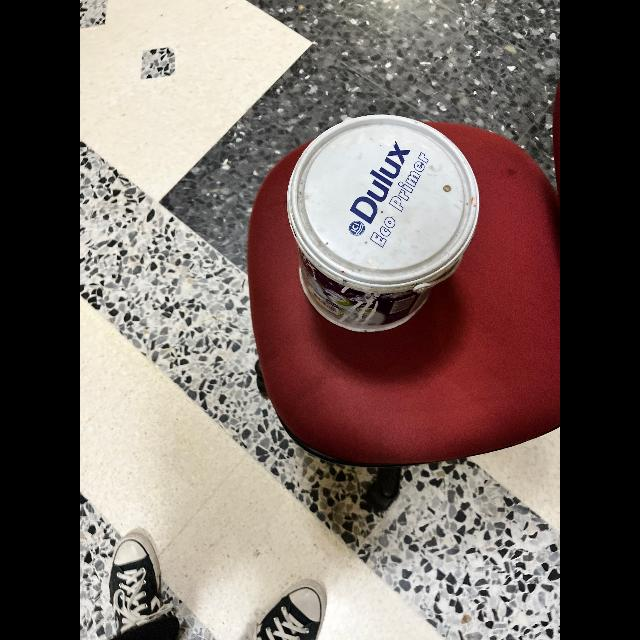paint_bucket: (286, 112, 480, 336)
